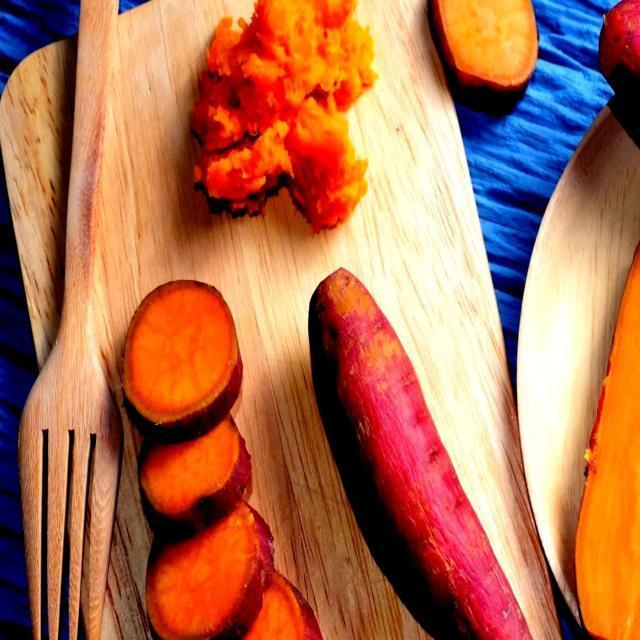Sweet Potato: (122, 210, 591, 640)
